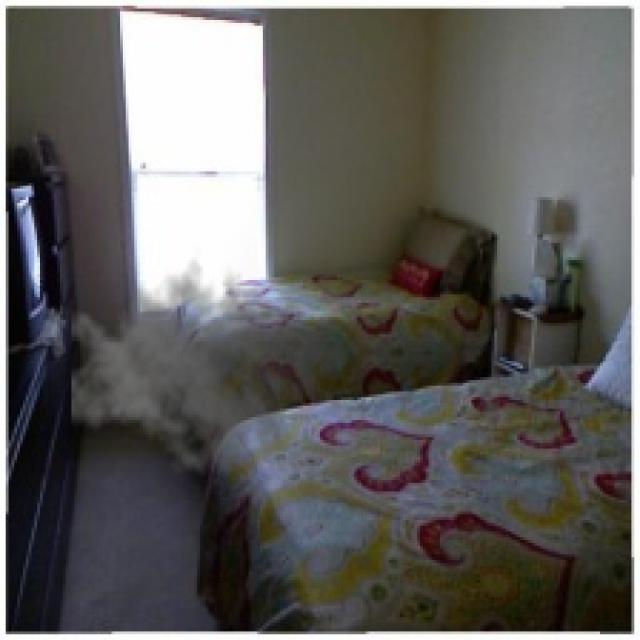Smoke: (72, 245, 328, 486)
